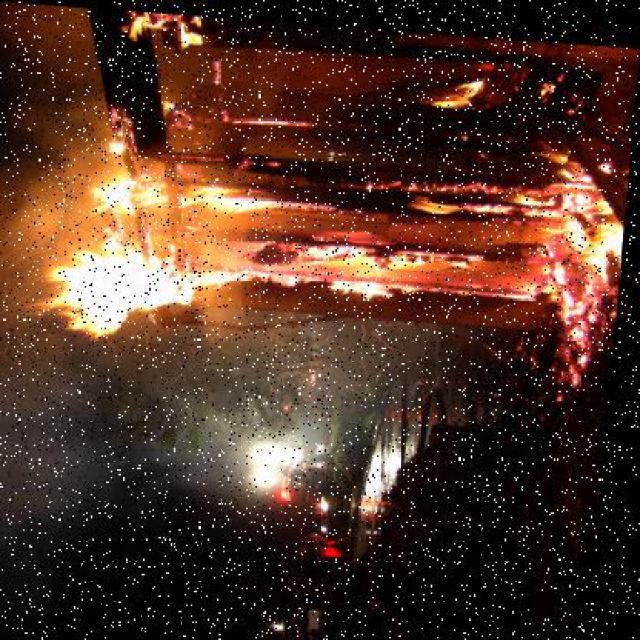fire: (29, 152, 629, 370)
